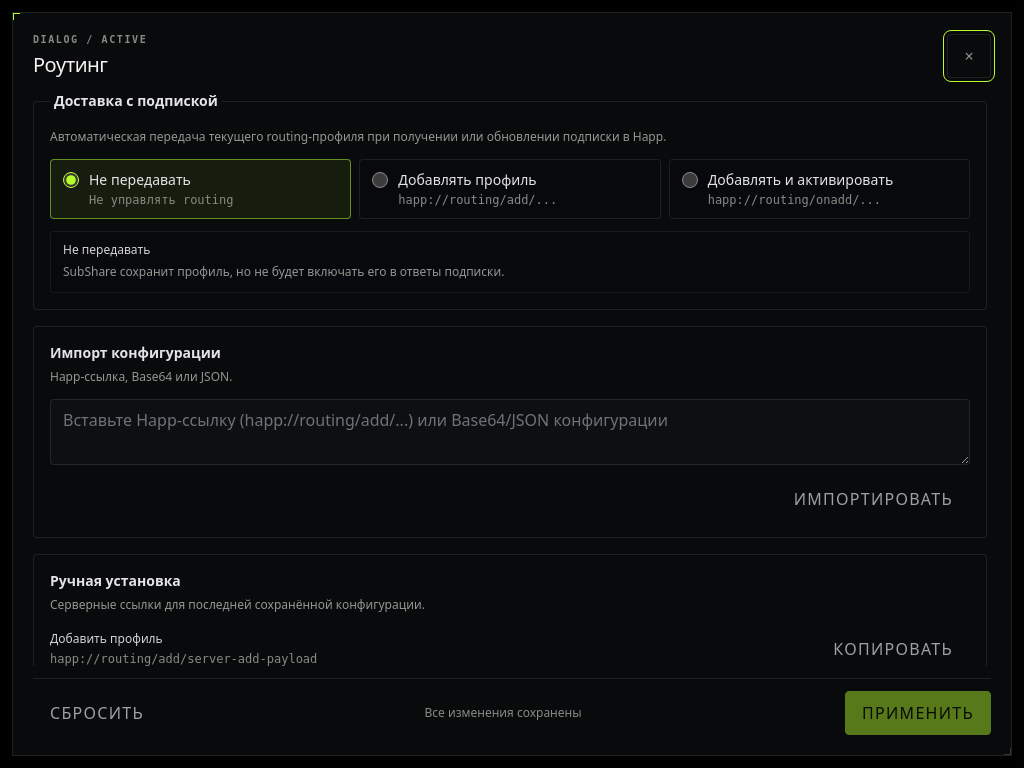
Test case: RoutingSettingsModal › tracks dirty state for every delivery-mode selection
Click the radio button labelled "Добавлять профиль happ://routing/add/..." at point(380, 180), box [372,172,388,188]
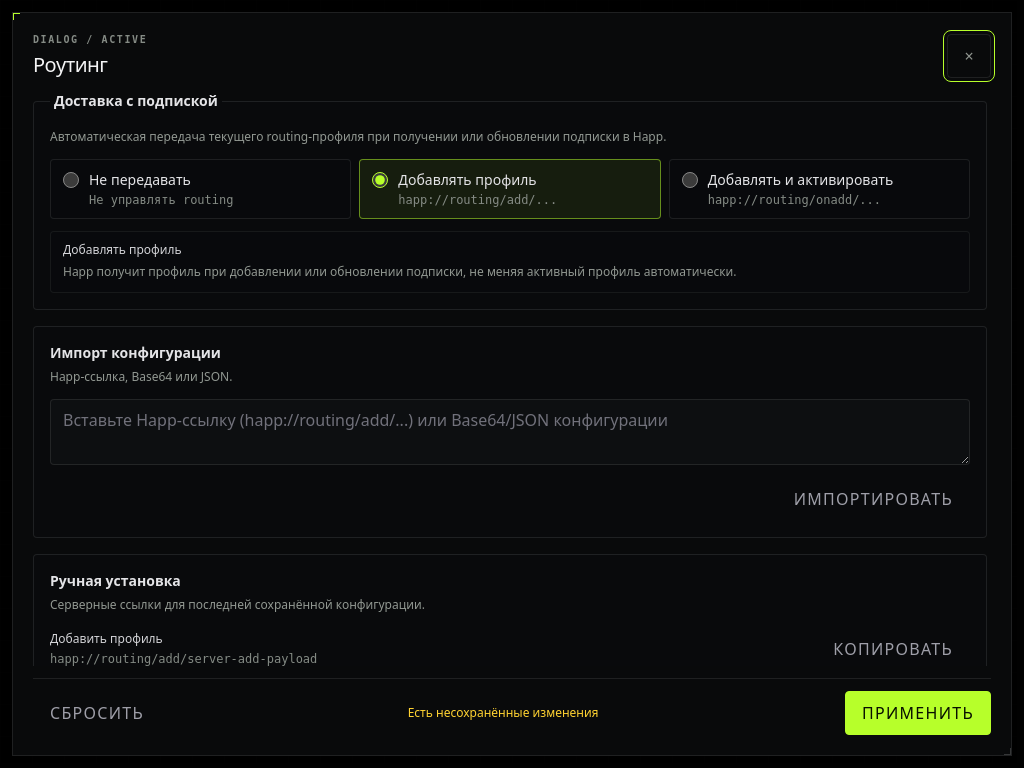
Expected: the button "Применить" is enabled, [845,691,991,735]
Click the radio button labelled "Не передавать Не управлять routing" at point(71, 180), box [63,172,79,188]
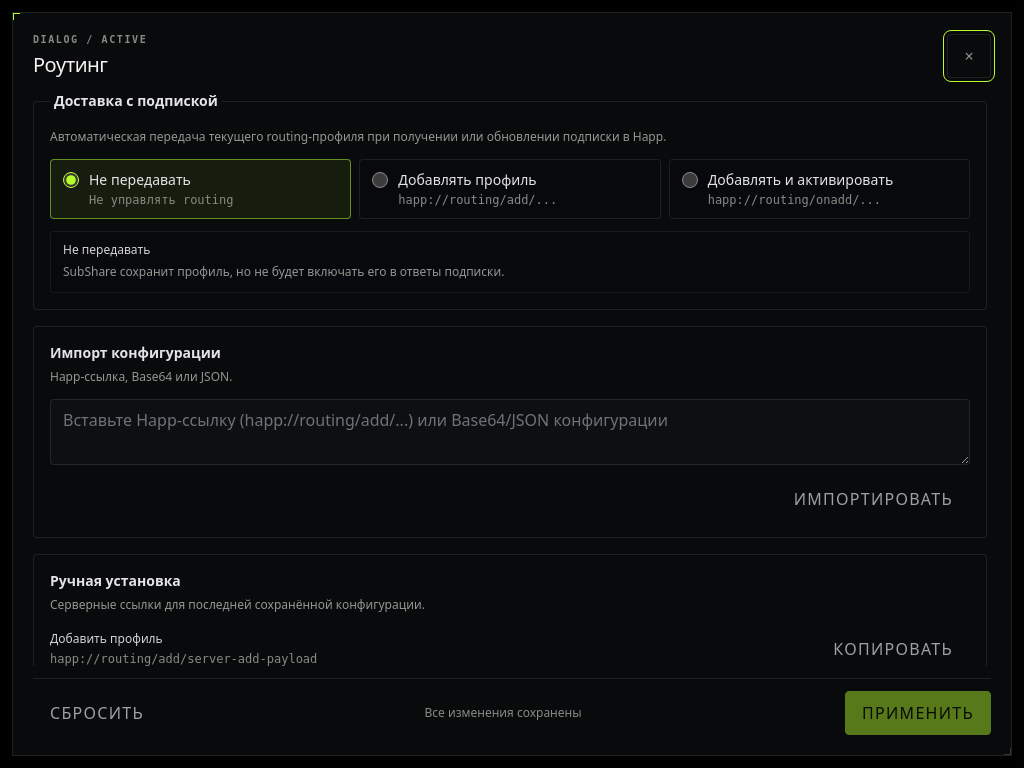
Expected: the button "Применить" is disabled, [845,691,991,735]
Click the radio button labelled "Добавлять и активировать happ://routing/onadd/..." at point(690, 180), box [682,172,698,188]
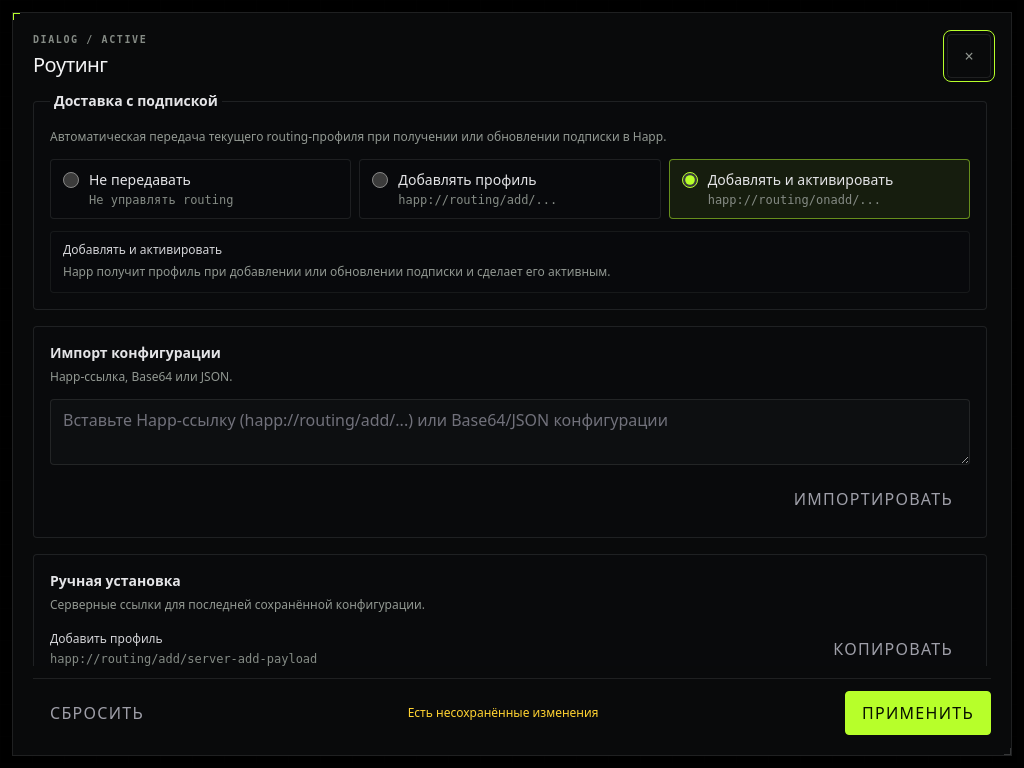
Expected: the button "Применить" is enabled, [845,691,991,735]
